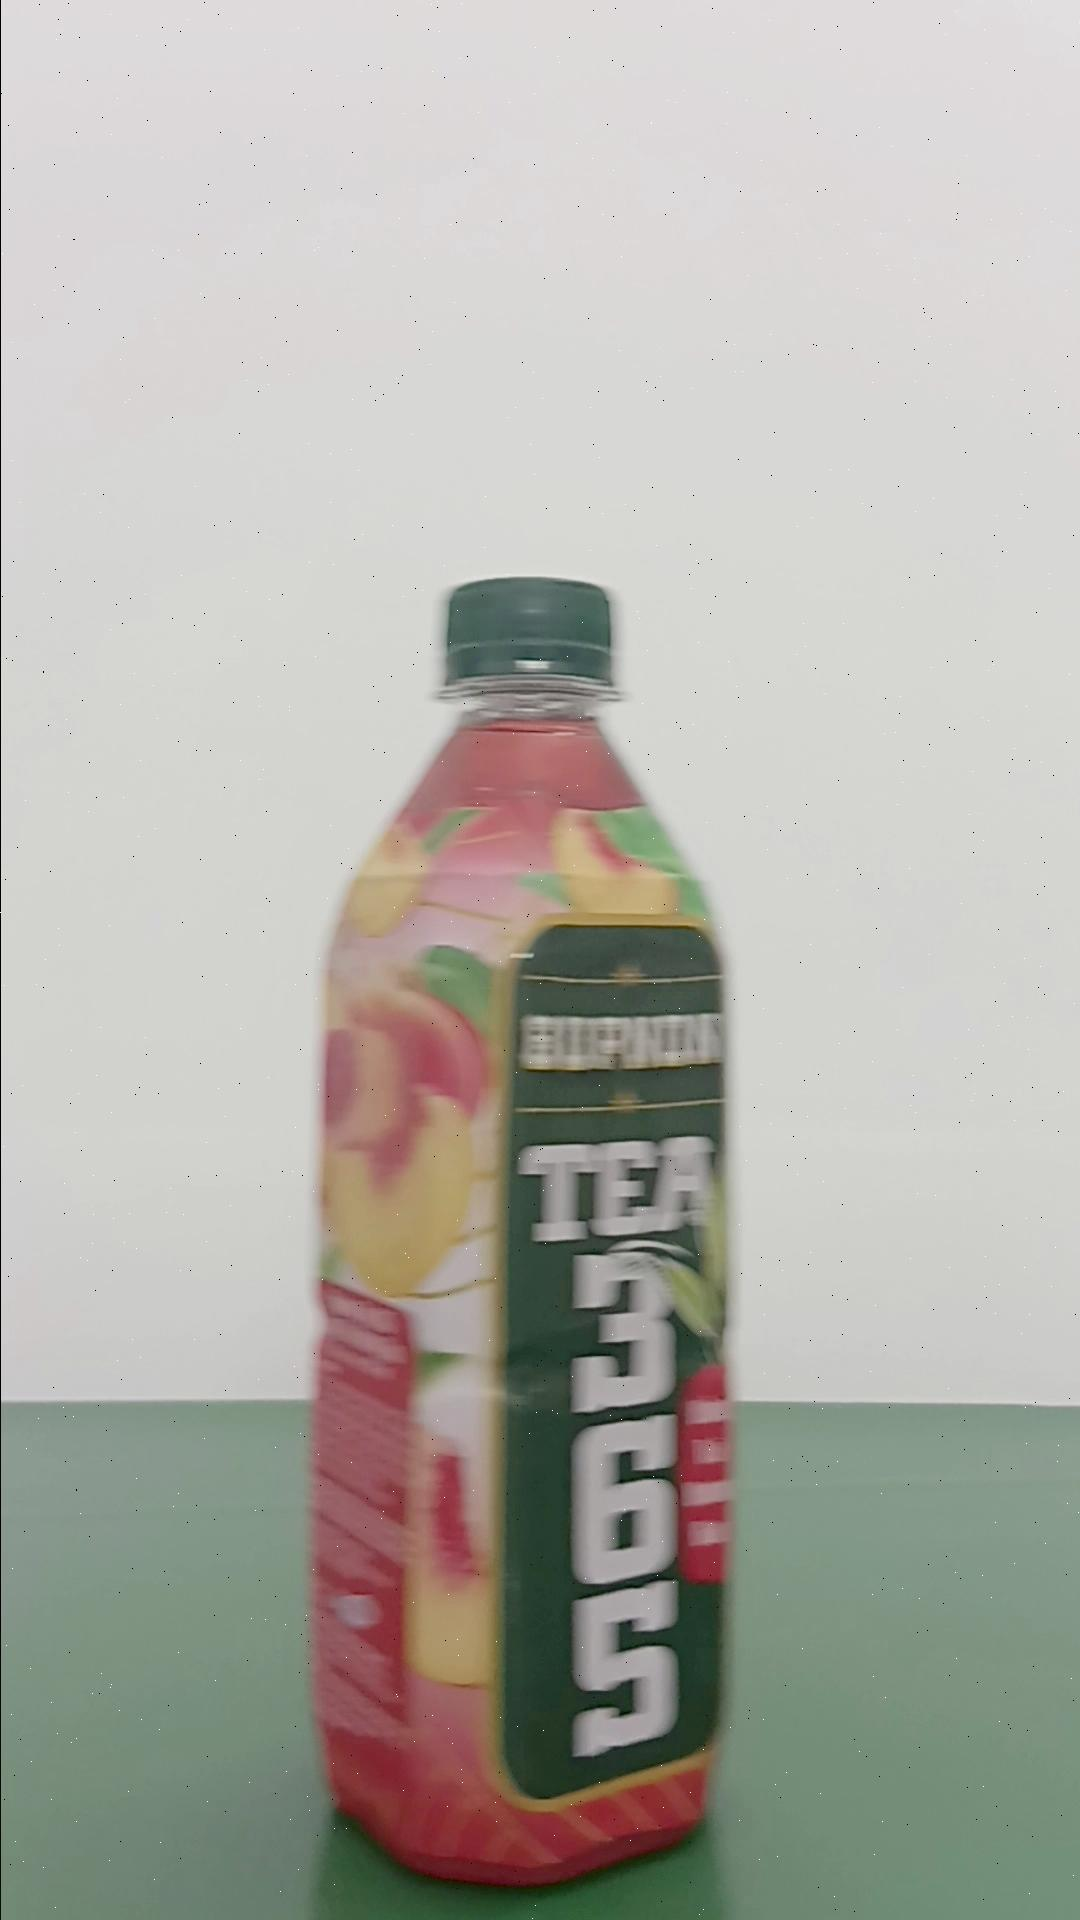khong loi: (303, 572, 738, 1887)
